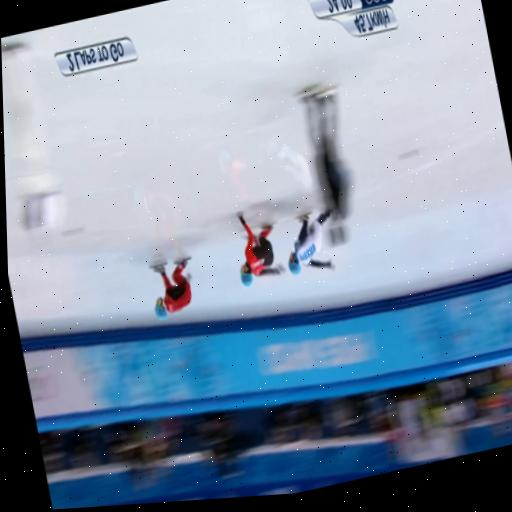Skater: (238, 212, 285, 285), (288, 210, 334, 274), (151, 256, 192, 319)
